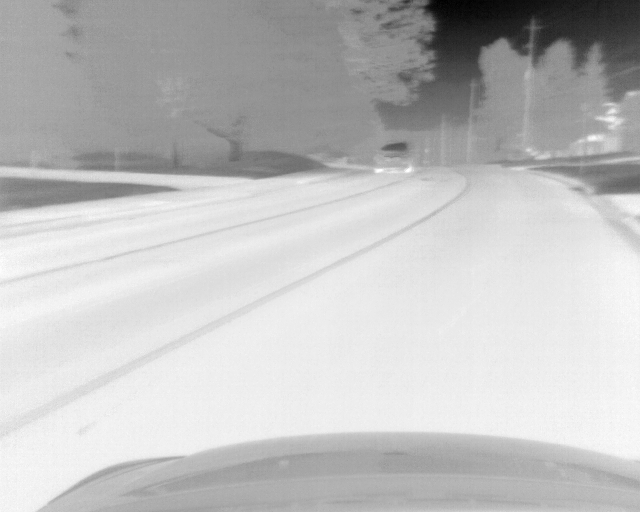car: (374, 142, 417, 175)
